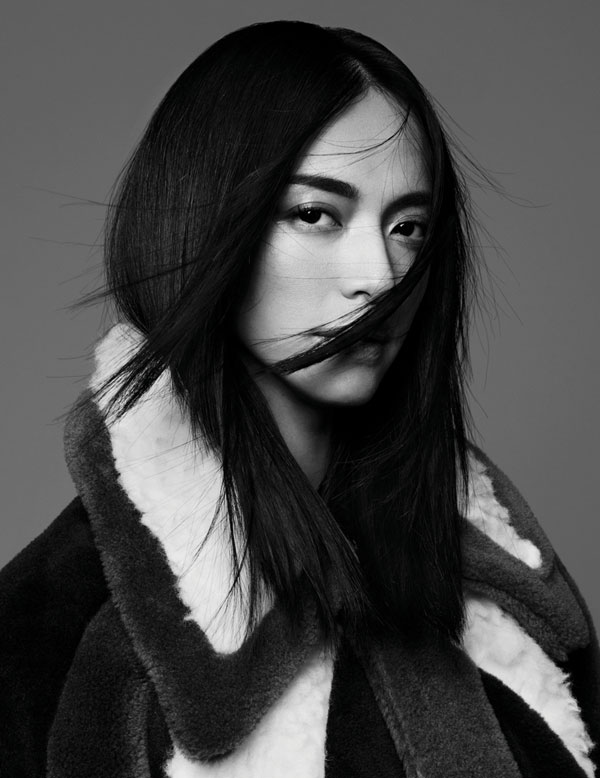face: (246, 104, 433, 406)
